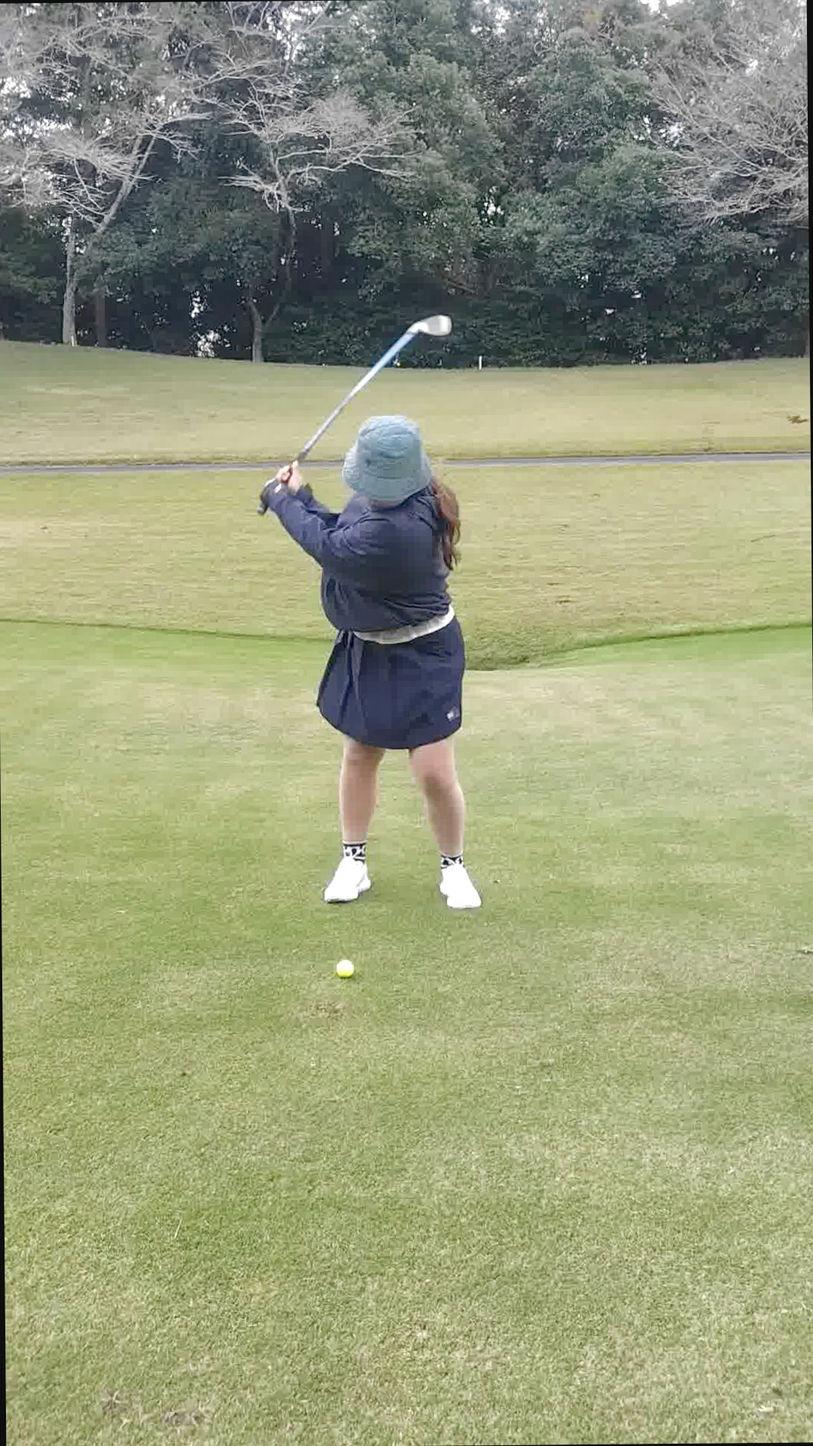clubhead: (311, 268, 551, 388)
